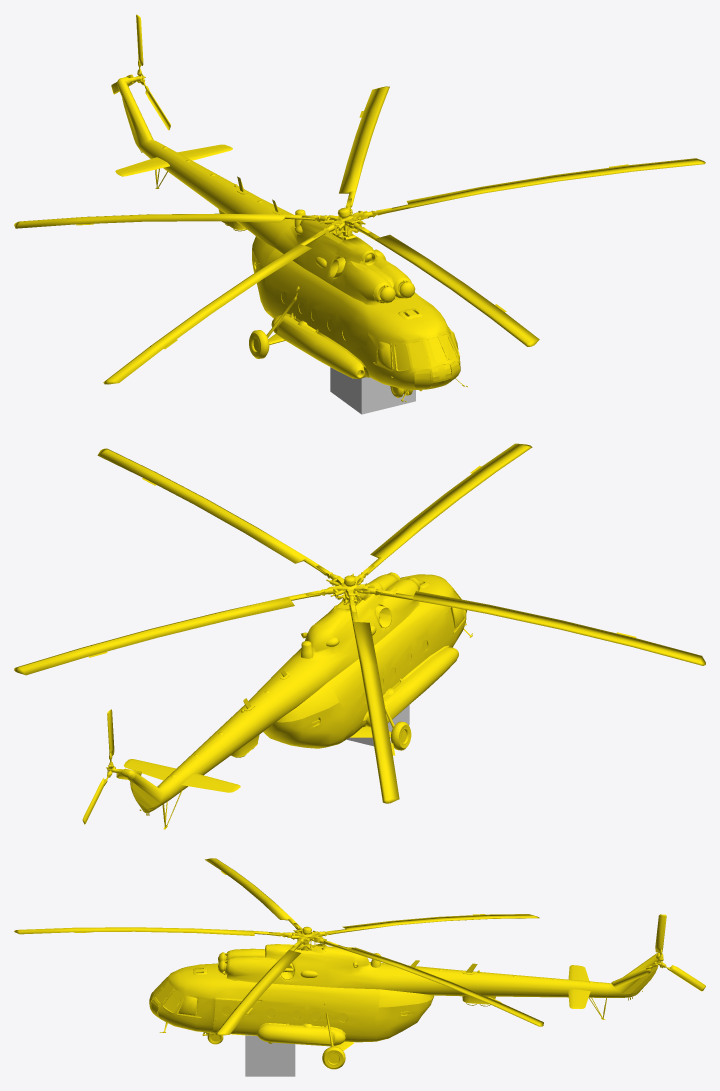
Rendered from mi8_rotor_animated_animated.glb.
3 renders of one model, top to bottom at view 1: azimuth 30°, elevation 25°; view 2: azimuth 150°, elevation 25°; view 3: azimuth 270°, elevation 25°, orthographic. The views are drawn at different scales.
Visible parts, largest first — view 1: mi8_Material #2460_0, lopocty_Material #1469_0, mi8_Material #2419_0, Cube, mi8_Material #1468_0, lopocty_Material #1470_0, zad.vint_Material #1473_0; view 2: mi8_Material #2460_0, lopocty_Material #1469_0, lopocty_Material #1470_0, mi8_Material #1468_0, zad.vint_Material #1473_0; view 3: mi8_Material #2460_0, lopocty_Material #1469_0, Cube, mi8_Material #2419_0, zad.vint_Material #1473_0, mi8_Material #1468_0, lopocty_Material #1470_0, dver_Material #2460_0.
Boxes of the visible parts, x1,y1,x2,y2 form: mi8_Material #2460_0: [115, 76, 464, 401]; lopocty_Material #1469_0: [14, 86, 705, 384]; mi8_Material #2419_0: [281, 291, 459, 389]; Cube: [330, 367, 415, 414]; mi8_Material #1468_0: [140, 150, 467, 401]; lopocty_Material #1470_0: [301, 198, 391, 237]; zad.vint_Material #1473_0: [111, 14, 170, 130]; mi8_Material #2460_0: [112, 572, 472, 829]; lopocty_Material #1469_0: [14, 443, 705, 803]; lopocty_Material #1470_0: [305, 565, 395, 612]; mi8_Material #1468_0: [139, 597, 472, 815]; zad.vint_Material #1473_0: [82, 709, 141, 824]; mi8_Material #2460_0: [150, 943, 663, 1050]; lopocty_Material #1469_0: [14, 858, 543, 1035]; Cube: [245, 1034, 295, 1076]; mi8_Material #2419_0: [149, 977, 347, 1021]; zad.vint_Material #1473_0: [611, 914, 705, 991]; mi8_Material #1468_0: [159, 946, 642, 1069]; lopocty_Material #1470_0: [269, 923, 337, 949]; dver_Material #2460_0: [213, 999, 237, 1033].
Size of the model in its own units: 22.31 by 6.95 by 27.83.
